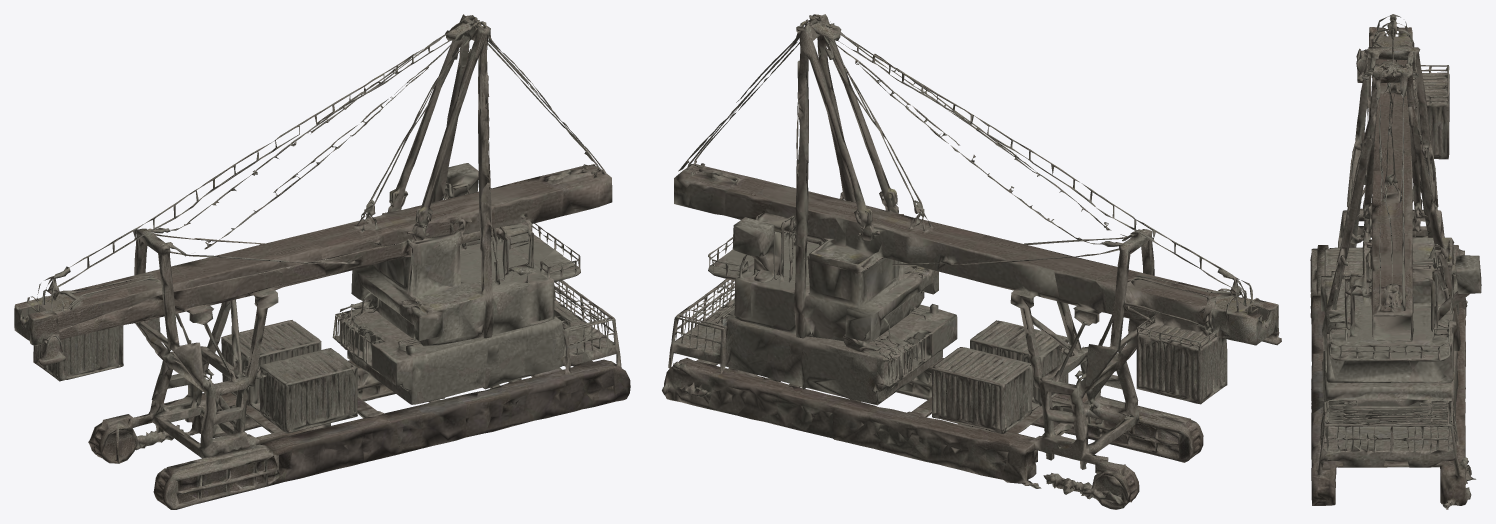
The model's file is links_harbour_crane.c7f94d4a.glb.
3 renders of one model, left to right at view 1: azimuth 30°, elevation 25°; view 2: azimuth 150°, elevation 25°; view 3: azimuth 270°, elevation 25°, orthographic.
Bounding box in the file's own units: 1.89 × 1.19 × 0.4753.
Materials: 1 (1 with a texture image).
